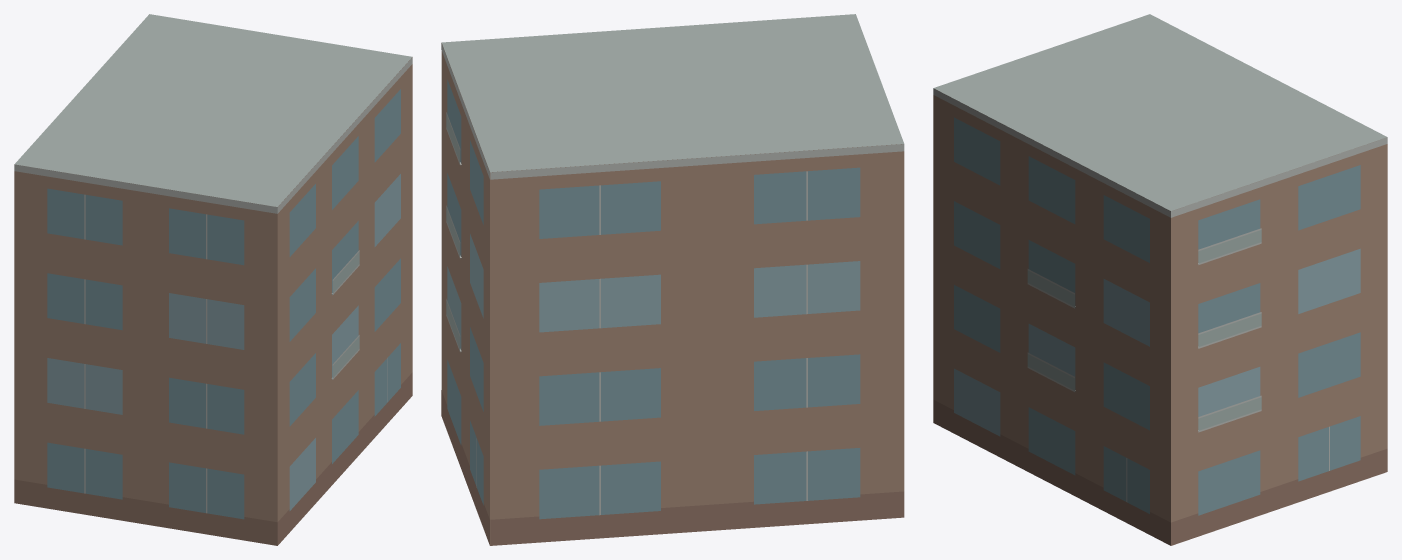
Rendered from survey-upis-32849110.glb.
3 views of the same model, side by side, from view 1: azimuth 30°, elevation 25°; view 2: azimuth 150°, elevation 25°; view 3: azimuth 270°, elevation 25° (orthographic). The views are drawn at different scales.
Parts seen in each view (by area): view 1: survey-upis-32849110.tmp; view 2: survey-upis-32849110.tmp; view 3: survey-upis-32849110.tmp.
Boxes of the visible parts, x1,y1,x2,y2 form: survey-upis-32849110.tmp: (14, 14, 412, 545); survey-upis-32849110.tmp: (441, 14, 904, 545); survey-upis-32849110.tmp: (933, 14, 1387, 545).
Bounding box in the file's own units: 15.42 × 12.2 × 15.02.
